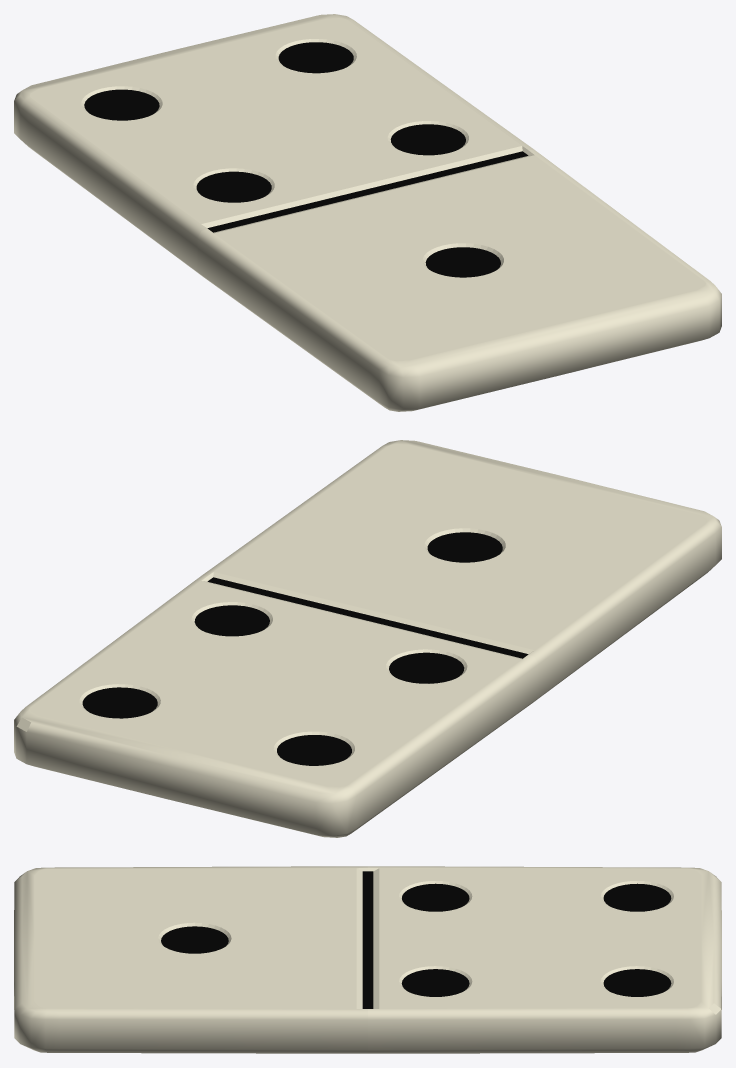
The model's file is Domino_1_4.glb.
3 views of the same model, one above another, from view 1: azimuth 30°, elevation 25°; view 2: azimuth 150°, elevation 25°; view 3: azimuth 270°, elevation 25° (orthographic). The views are drawn at different scales.
Parts seen in each view (by area): view 1: Domino_1_4_A.001, Domino_1_4_B.001; view 2: Domino_1_4_B.001, Domino_1_4_A.001; view 3: Domino_1_4_A.001, Domino_1_4_B.001.
Part boxes in pixels (x1,y1,x2,y2): Domino_1_4_A.001: (197, 149, 721, 411); Domino_1_4_B.001: (14, 14, 533, 276); Domino_1_4_B.001: (14, 575, 538, 837); Domino_1_4_A.001: (202, 440, 721, 702); Domino_1_4_A.001: (14, 866, 367, 1053); Domino_1_4_B.001: (368, 866, 721, 1053).
Bounding box in the file's own units: 0.7725 × 0.105 × 1.54.
